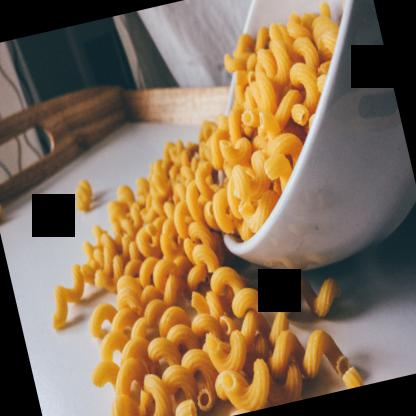pasta: (56, 232, 363, 415)
